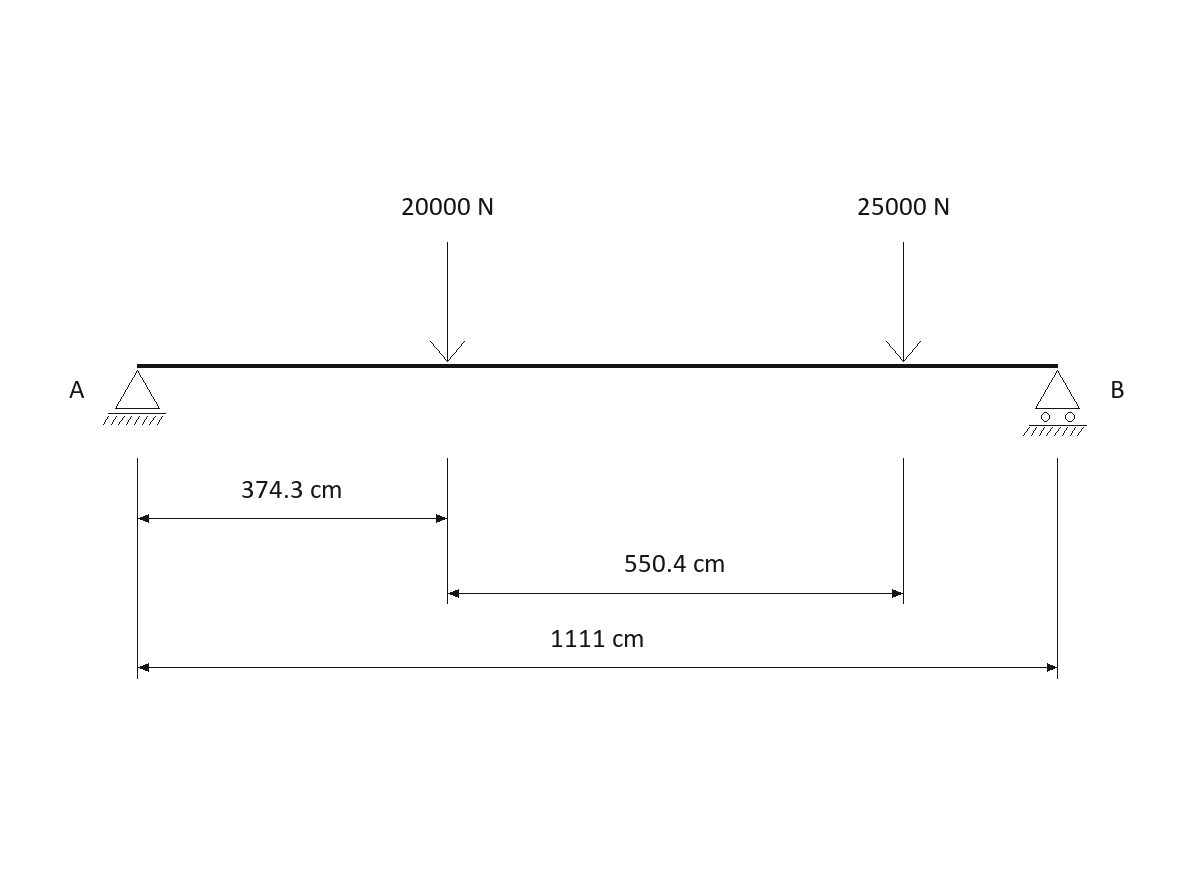pin_support: (103, 370, 166, 425)
point_load: (430, 242, 465, 362), (886, 242, 921, 362)
roller_support: (1023, 370, 1087, 436)
